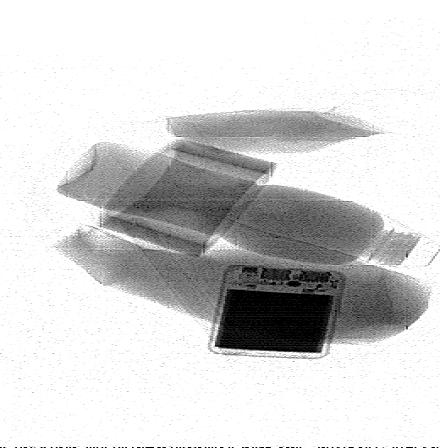Powerbank: (207, 263, 349, 360)
